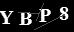8: (58, 6, 69, 21)
B: (17, 11, 33, 26)
P: (38, 8, 52, 23)
Y: (1, 10, 14, 26)
